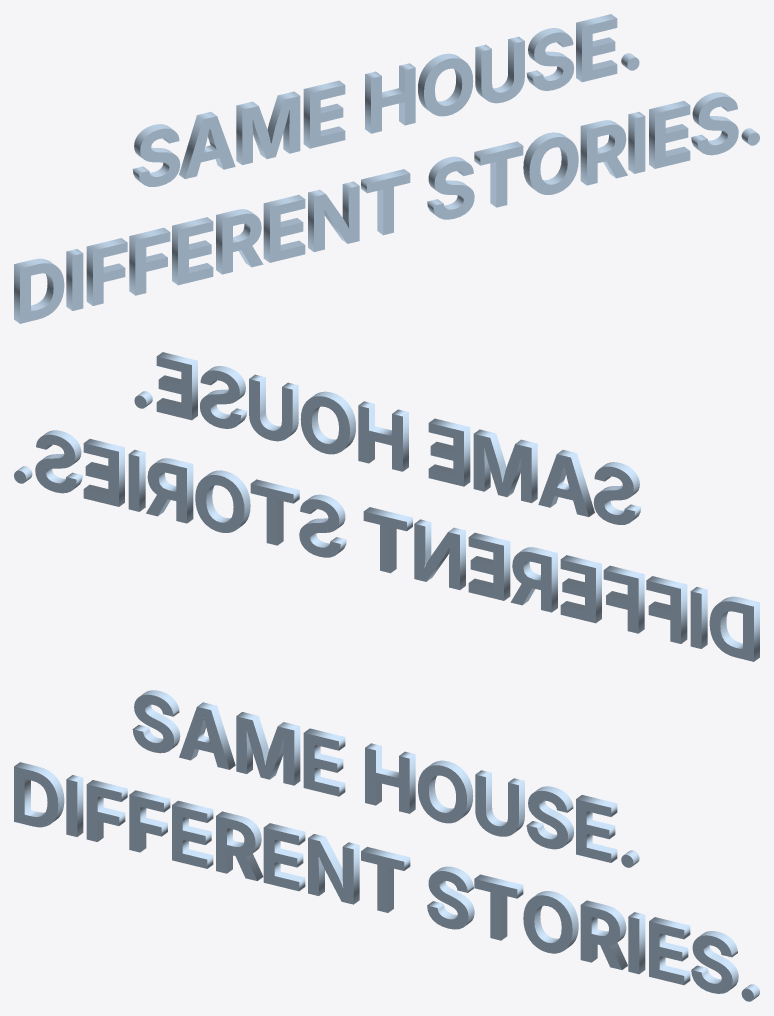
The model's file is bb_set_sign_samehouse.fbx.
3 views of the same model, one above another, from view 1: azimuth 30°, elevation 25°; view 2: azimuth 150°, elevation 25°; view 3: azimuth 330°, elevation 25° (orthographic).
Visible parts, largest first — view 1: bb_set_sign_samehouse; view 2: bb_set_sign_samehouse; view 3: bb_set_sign_samehouse.
Part boxes in pixels (box(x1,y1,x2,y2)): bb_set_sign_samehouse: box(14, 14, 759, 323); bb_set_sign_samehouse: box(14, 352, 759, 661); bb_set_sign_samehouse: box(14, 690, 759, 1001).
Size of the model in its own units: 2.11 by 0.4401 by 0.03.
